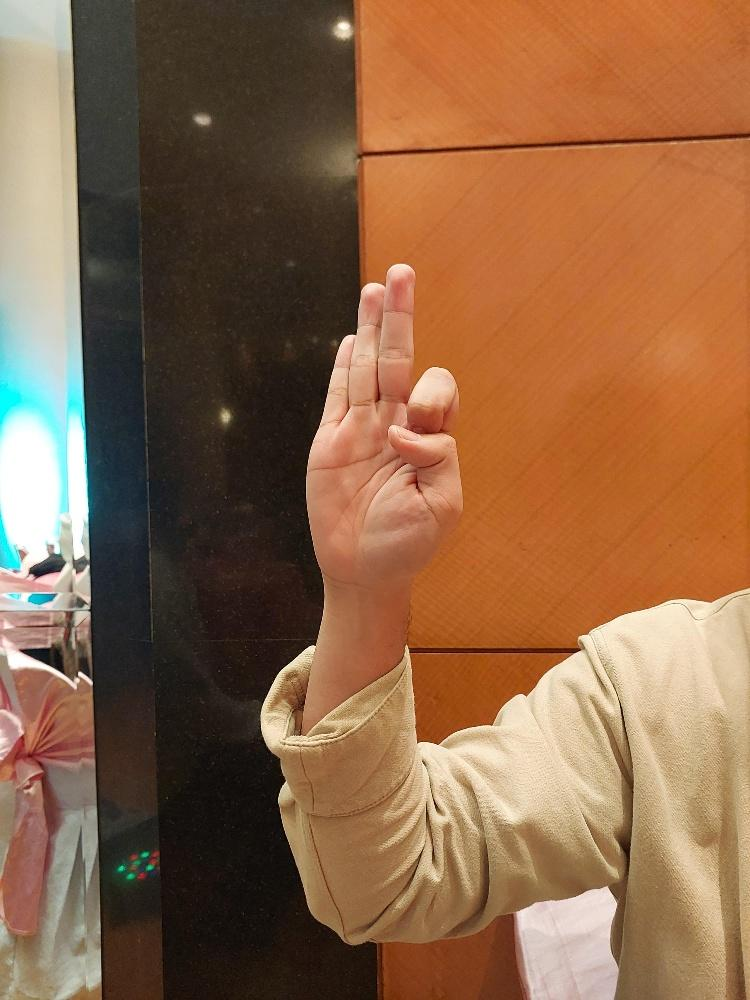f: (302, 260, 464, 592)
